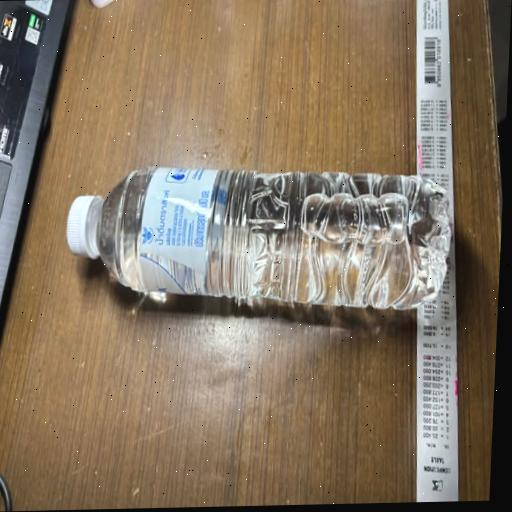ba: (52, 128, 463, 323)
